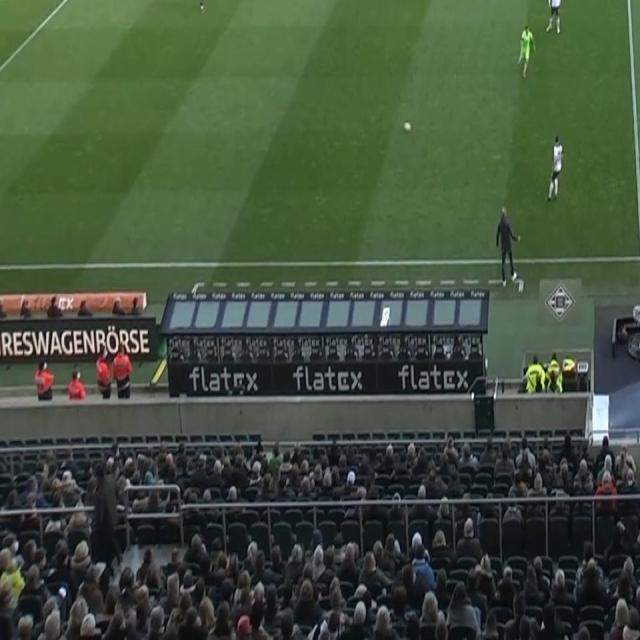ball: (404, 119, 412, 134)
